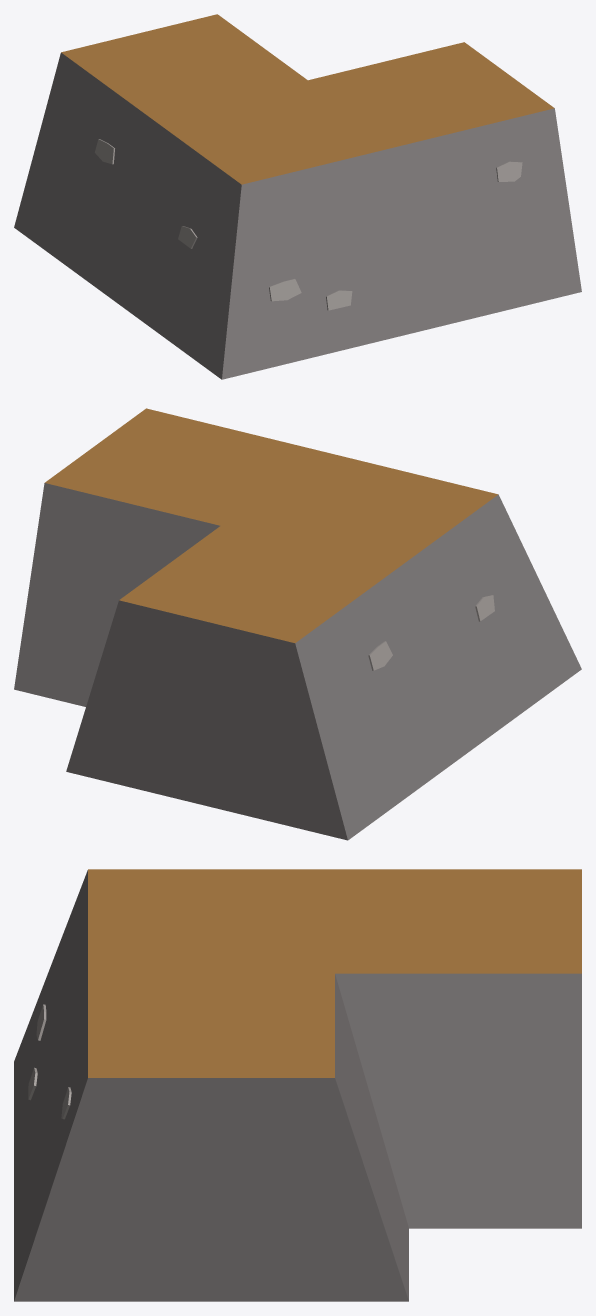
Rendered from base-japan-edge-small.glb.
The picture shows the model from 3 angles, top to bottom: view 1: azimuth 30°, elevation 25°; view 2: azimuth 150°, elevation 25°; view 3: azimuth 270°, elevation 25°; orthographic projection. The views are drawn at different scales.
Parts seen in each view (by area): view 1: base-japan-edge_small; view 2: base-japan-edge_small; view 3: base-japan-edge_small.
Boxes of the visible parts, <box> form: base-japan-edge_small: <box>14,14,581,379</box>; base-japan-edge_small: <box>14,408,581,840</box>; base-japan-edge_small: <box>14,869,581,1301</box>.
Size of the model in its own units: 11.5 by 5 by 11.5.
Materials: 1 (1 with a texture image).
